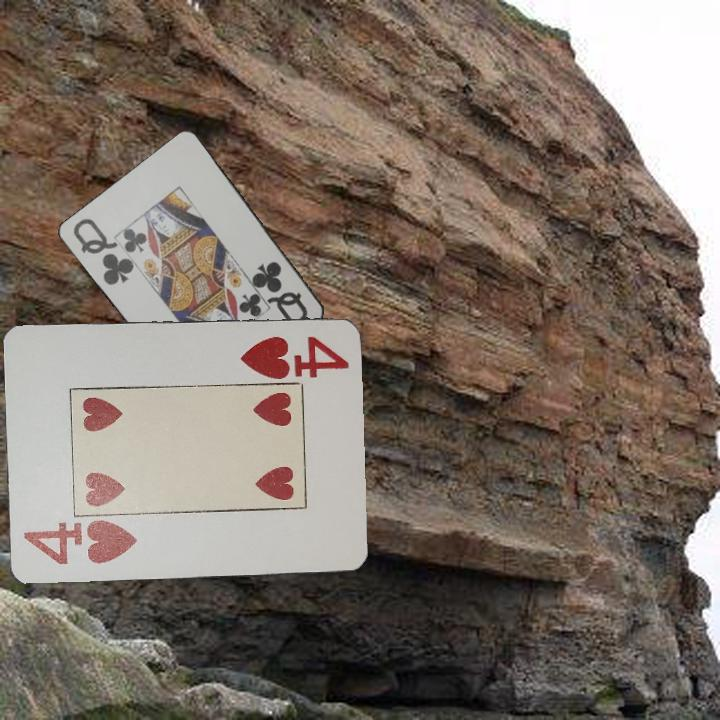4h: (20, 519, 139, 568), (236, 333, 352, 381)
Qc: (69, 215, 137, 289), (251, 258, 311, 328)
